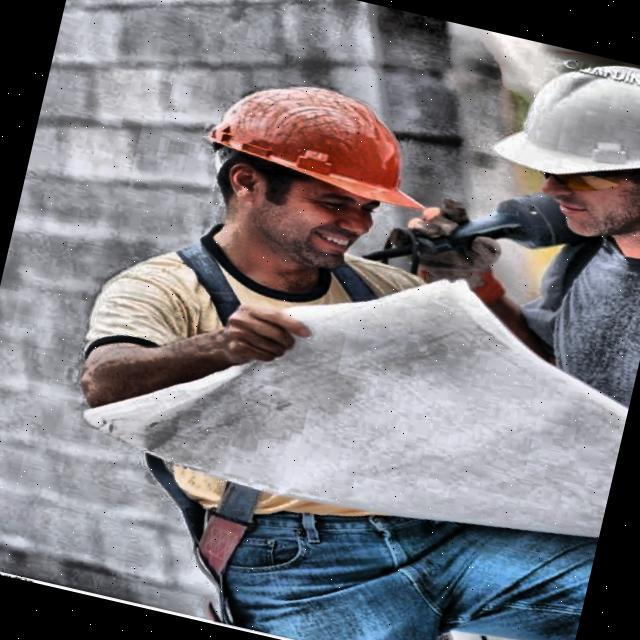helmet: (154, 35, 452, 302), (455, 37, 640, 274)
